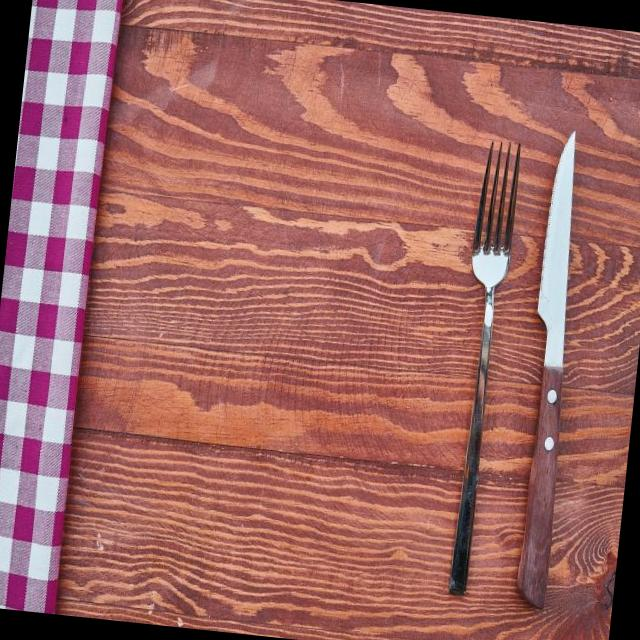Knife: (517, 132, 574, 607)
